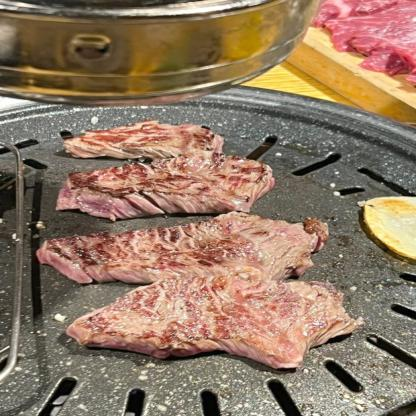Carne: (46, 271, 370, 370), (40, 213, 332, 288), (49, 150, 272, 221), (68, 117, 217, 161)
